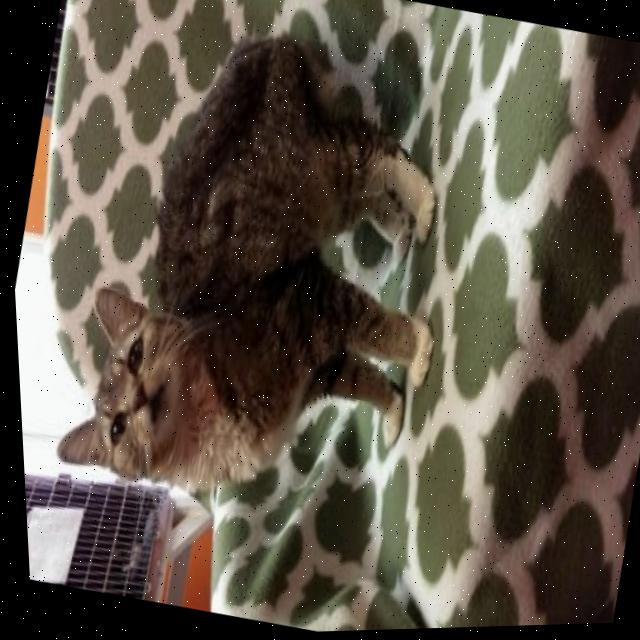American Bobtail: (22, 0, 502, 555)
